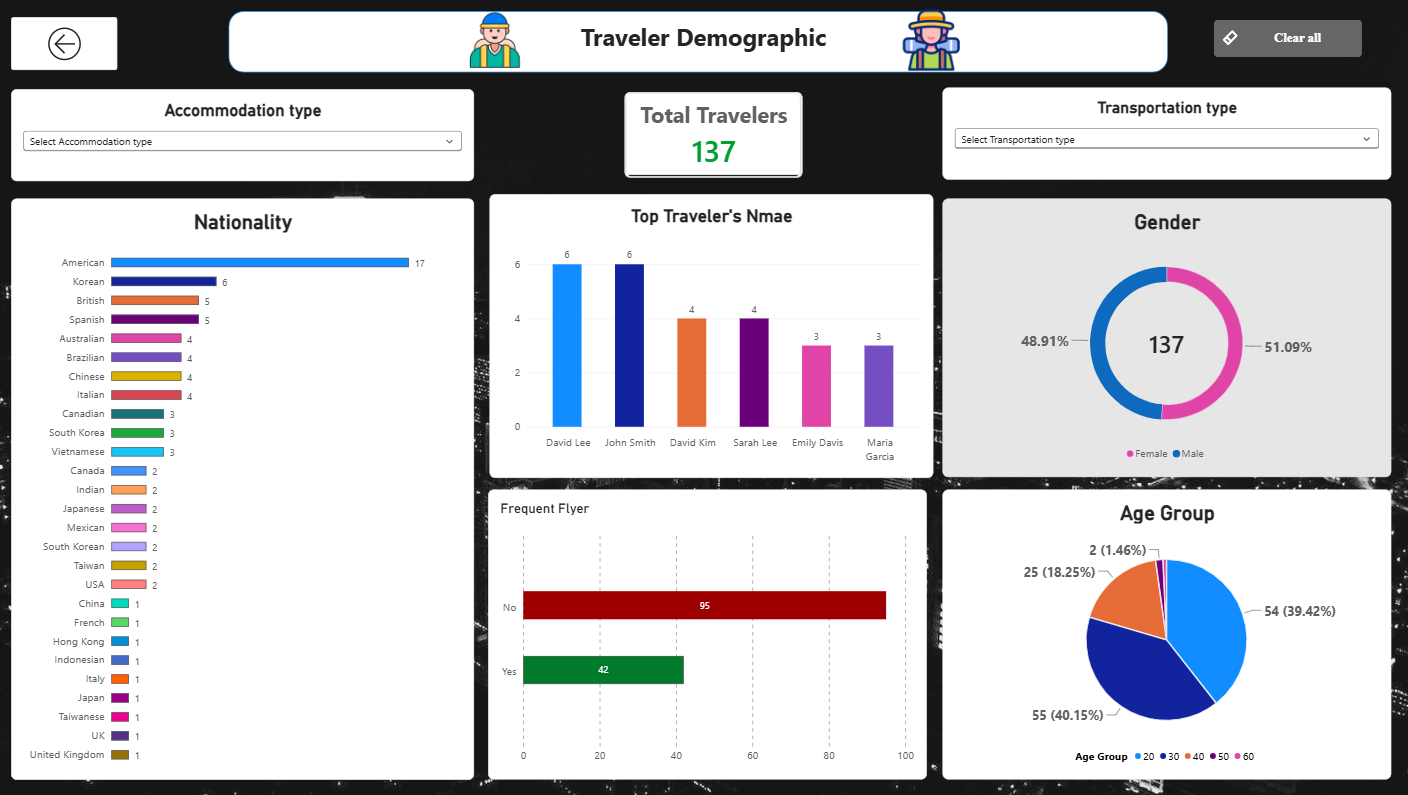

This screenshot's page, from the dashboard's own definition file:
{"tool":"powerbi","page":{"name":"Page 3","canvas":[1920,1080],"ordinal":2},"visuals":[{"type":"barChart","title":"Nationality","fields":{"Category":["Travel details dataset.Traveler nationality"],"Series":["Travel details dataset.Traveler nationality"],"Y":["CountNonNull(Travel details dataset.Destination)"]},"box":[24.1,269.3,626.1,786],"z":0},{"type":"donutChart","title":"Gender","fields":{"Category":["Travel details dataset.Traveler gender"],"Y":["CountNonNull(Travel details dataset.Trip ID)"]},"box":[1282.9,269.3,606.4,376.6],"z":1000},{"type":"listSlicer","fields":{"Values":["Travel details dataset.Accommodation type"]},"box":[24.1,122.6,626.1,124.8],"z":2000},{"type":"pieChart","title":"Age Group","fields":{"Category":["Travel details dataset.Traveler age (bins)"],"Y":["Count(Travel details dataset.Trip ID)"]},"box":[1282.9,663.4,606.4,391.9],"z":3000},{"type":"listSlicer","fields":{"Values":["Travel details dataset.Transportation type"]},"box":[1282.9,120.4,606.4,124.8],"z":4000},{"type":"shape","box":[317.4,15.3,1269.8,83.2],"z":5000},{"type":"textbox","box":[584.5,28.5,753.1,59.1],"z":6000},{"type":"cardVisual","fields":{"Data":["CountNonNull(Travel details dataset.Trip ID)"]},"box":[846.7,131.7,240.8,116],"z":7000},{"type":"actionButton","box":[1650.7,28.5,200,50],"z":8000},{"type":"barChart","title":"Frequent Flyer","fields":{"Category":["Travel details dataset.FrequentFlyer"],"Series":["Travel details dataset.FrequentFlyer"],"Y":["CountNonNull(Travel details dataset.FrequentFlyer)"]},"box":[669.9,663.4,593.3,391.9],"z":9000},{"type":"image","box":[610.1,14.8,136.2,82.9],"z":10000},{"type":"image","box":[1199.4,14.8,136.2,82.9],"z":11000}]}

Visuals, with their boxes in screenshot pixels (x1, y1, x2, y2), scaled from the page's 1920x1080 canvas onto the 1408x795 screenshot:
"Nationality" barChart: pyautogui.locateOnScreen(18, 198, 477, 777)
"Gender" donutChart: pyautogui.locateOnScreen(941, 198, 1385, 475)
listSlicer - Travel details dataset.Accommodation type: pyautogui.locateOnScreen(18, 90, 477, 182)
"Age Group" pieChart: pyautogui.locateOnScreen(941, 488, 1385, 777)
listSlicer - Travel details dataset.Transportation type: pyautogui.locateOnScreen(941, 89, 1385, 180)
shape: pyautogui.locateOnScreen(233, 11, 1164, 73)
textbox: pyautogui.locateOnScreen(429, 21, 981, 64)
cardVisual - CountNonNull(Travel details dataset.Trip ID): pyautogui.locateOnScreen(621, 97, 798, 182)
actionButton: pyautogui.locateOnScreen(1211, 21, 1357, 58)
"Frequent Flyer" barChart: pyautogui.locateOnScreen(491, 488, 926, 777)
image: pyautogui.locateOnScreen(447, 11, 547, 72)
image: pyautogui.locateOnScreen(880, 11, 979, 72)
